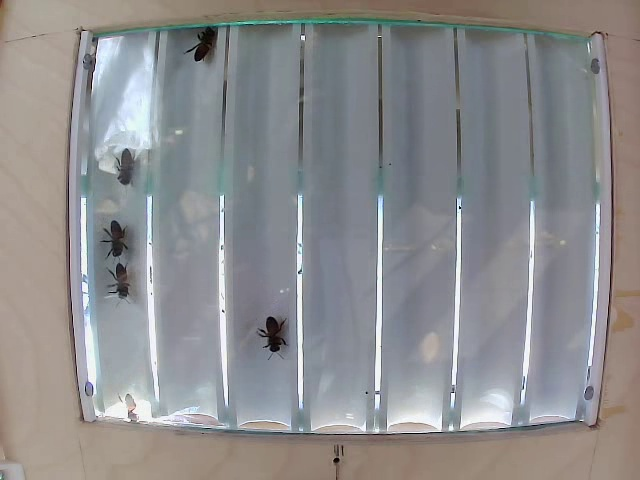bee: (97, 212, 140, 263), (107, 151, 153, 195), (103, 267, 150, 310), (253, 311, 289, 365), (186, 35, 224, 77)
